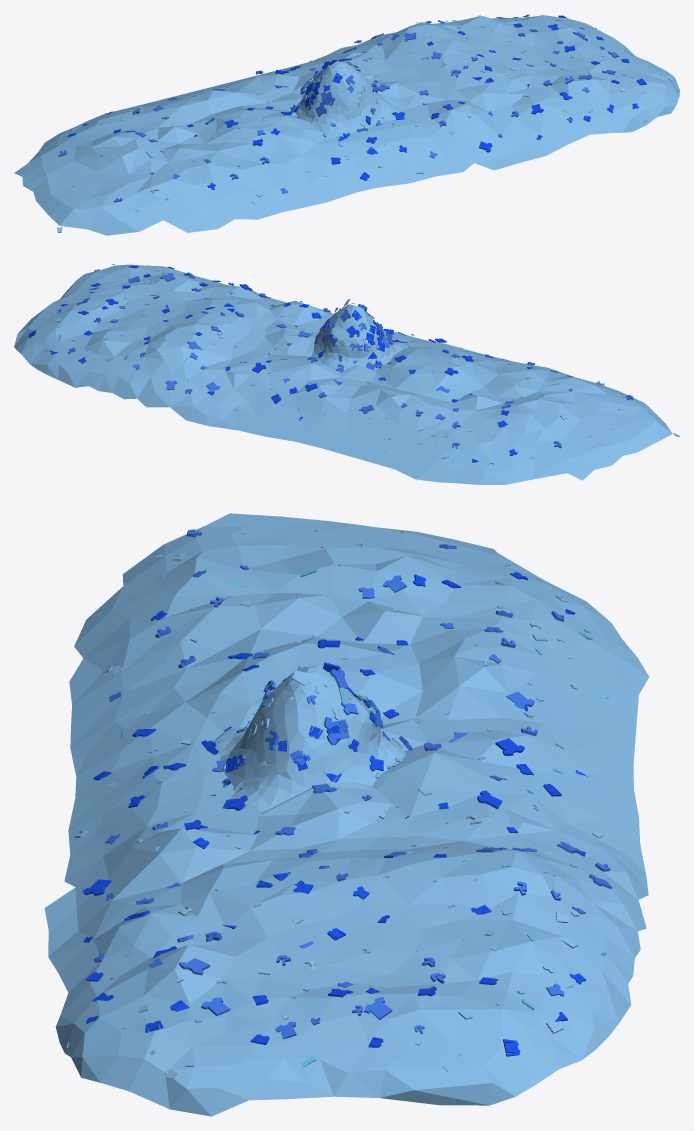
Rendered from BG_LaundryMountains_Parts.fbx.
3 views of the same model, one above another, from view 1: azimuth 30°, elevation 25°; view 2: azimuth 150°, elevation 25°; view 3: azimuth 270°, elevation 25° (orthographic). The views are drawn at different scales.
Parts seen in each view (by area): view 1: Laundry_BG_Ground, Laundry_BG_Mountain; view 2: Laundry_BG_Ground, Laundry_BG_Mountain; view 3: Laundry_BG_Ground, Laundry_BG_Mountain.
Boxes of the visible parts, <box> form: Laundry_BG_Ground: <box>14,14,679,235</box>; Laundry_BG_Mountain: <box>290,59,404,141</box>; Laundry_BG_Ground: <box>14,264,679,484</box>; Laundry_BG_Mountain: <box>311,299,409,372</box>; Laundry_BG_Ground: <box>44,513,648,1116</box>; Laundry_BG_Mountain: <box>201,662,412,810</box>.
Size of the model in its own units: 20740 by 2627 by 8941.
